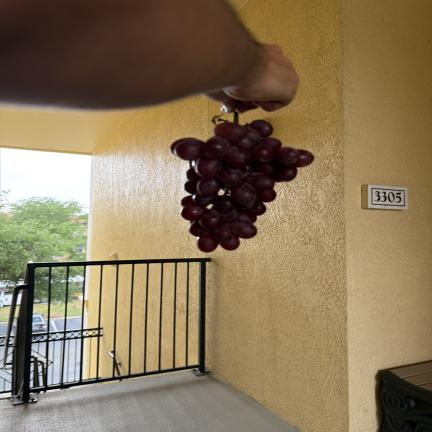grape_cluster: (170, 113, 314, 253)
